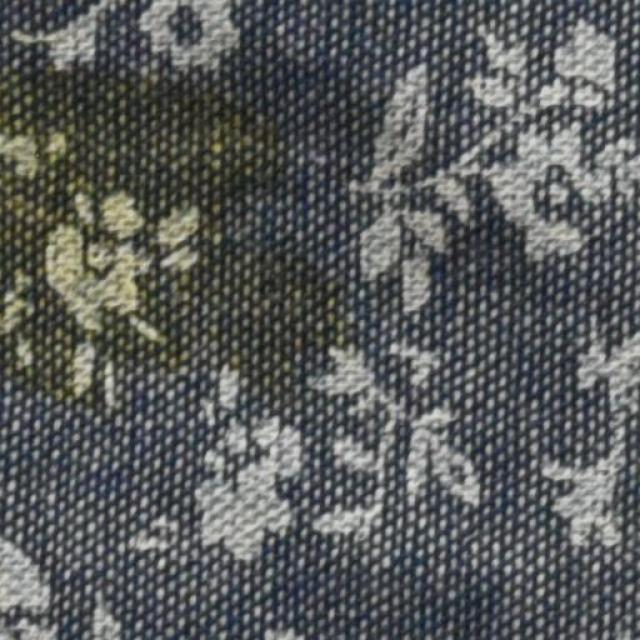Stain: (3, 47, 353, 408)
